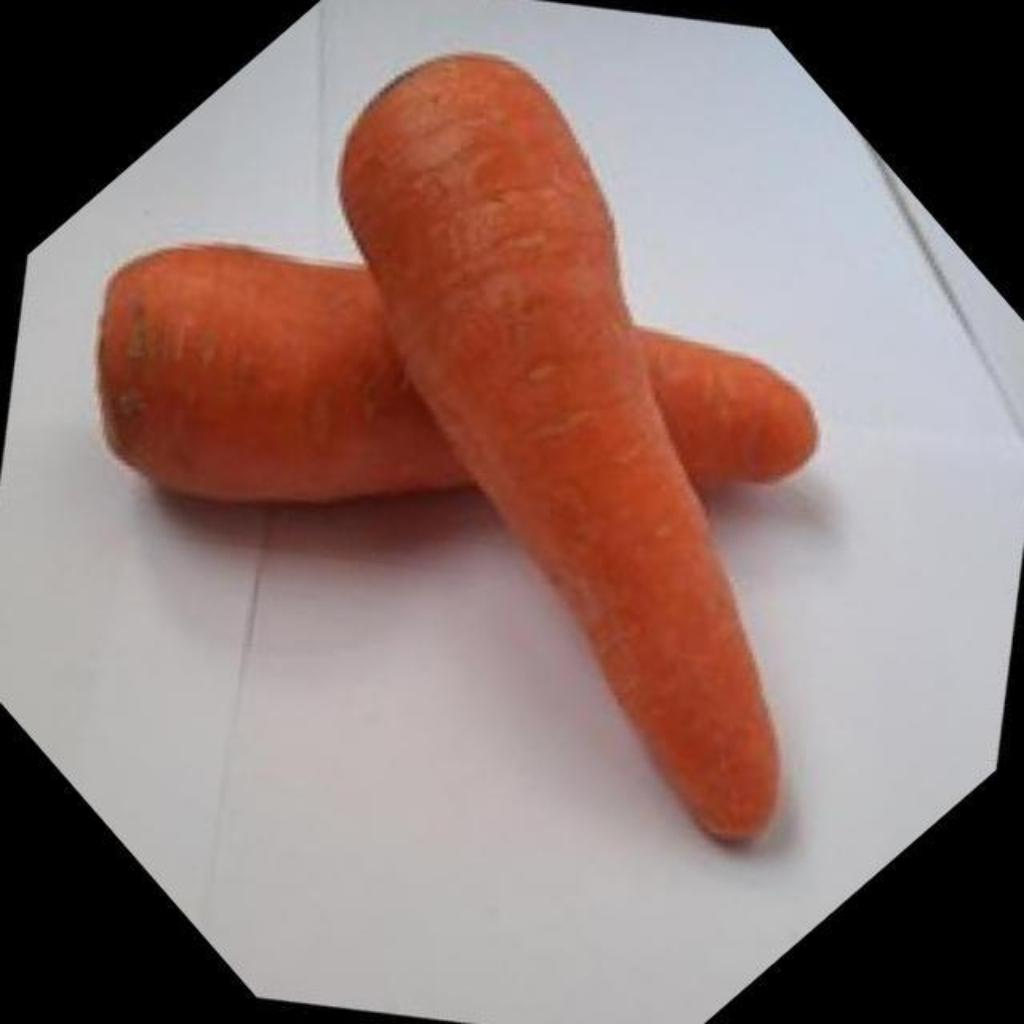carrot: (344, 56, 776, 839), (98, 246, 824, 502)
